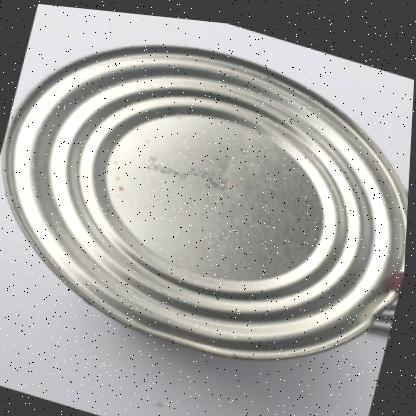Metal: (6, 42, 410, 354)
